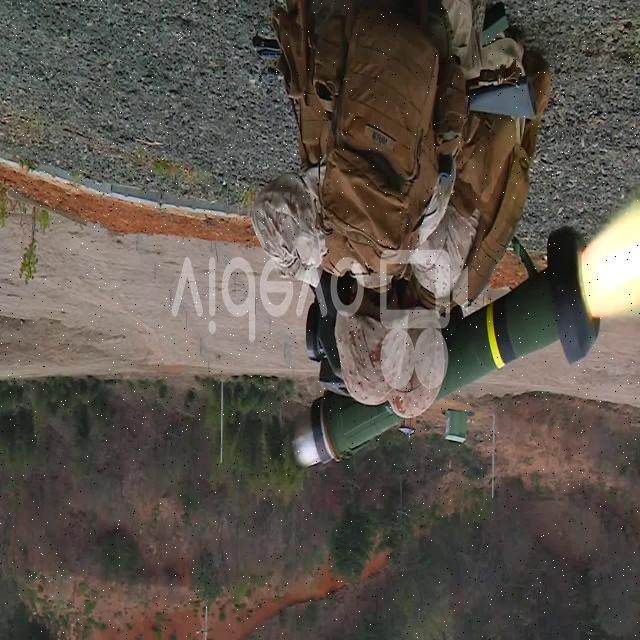bazooka: (285, 234, 605, 468)
